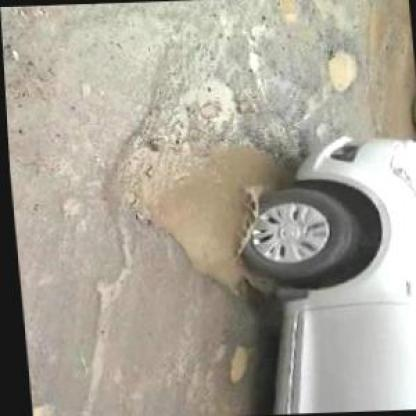pothole: (97, 93, 327, 305), (326, 46, 362, 94), (219, 344, 251, 388)
